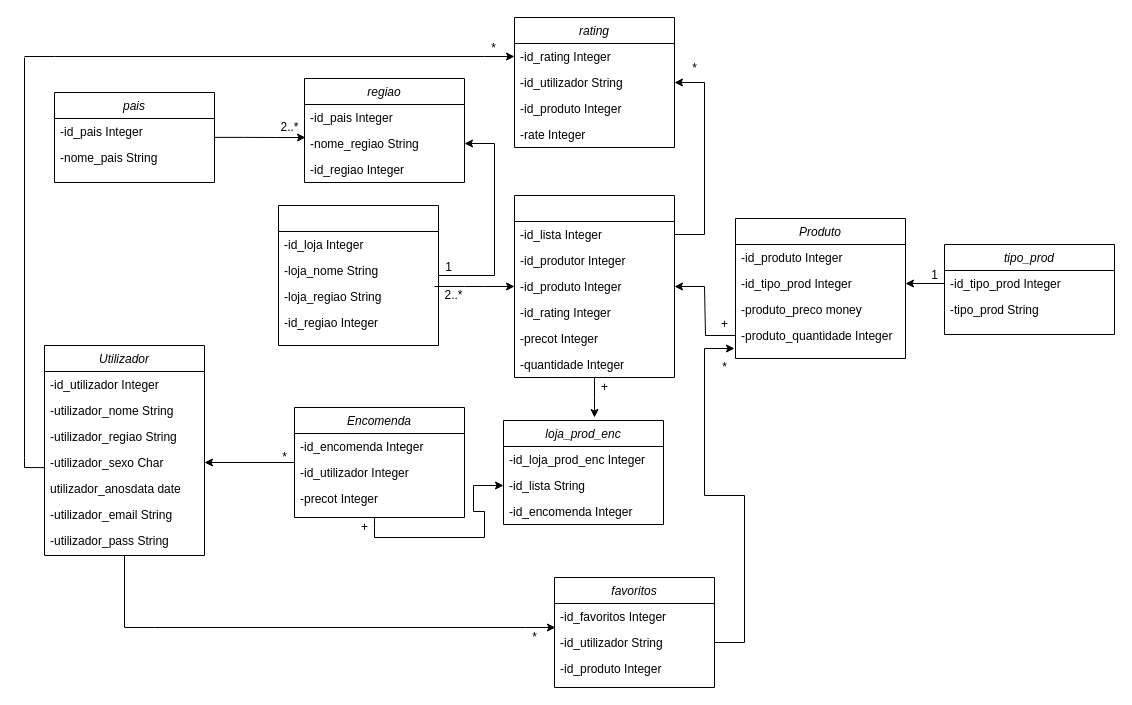
Some shapes in this 1132 by 705 pixel diagram are drawn without their labels. The shapes that lost their labels are listed below. From the top down, each one's box as (x1, y1, x2, y2) in pixels, then its label:
(278, 204, 438, 346): Produtor
(514, 194, 674, 378): lista_compras
